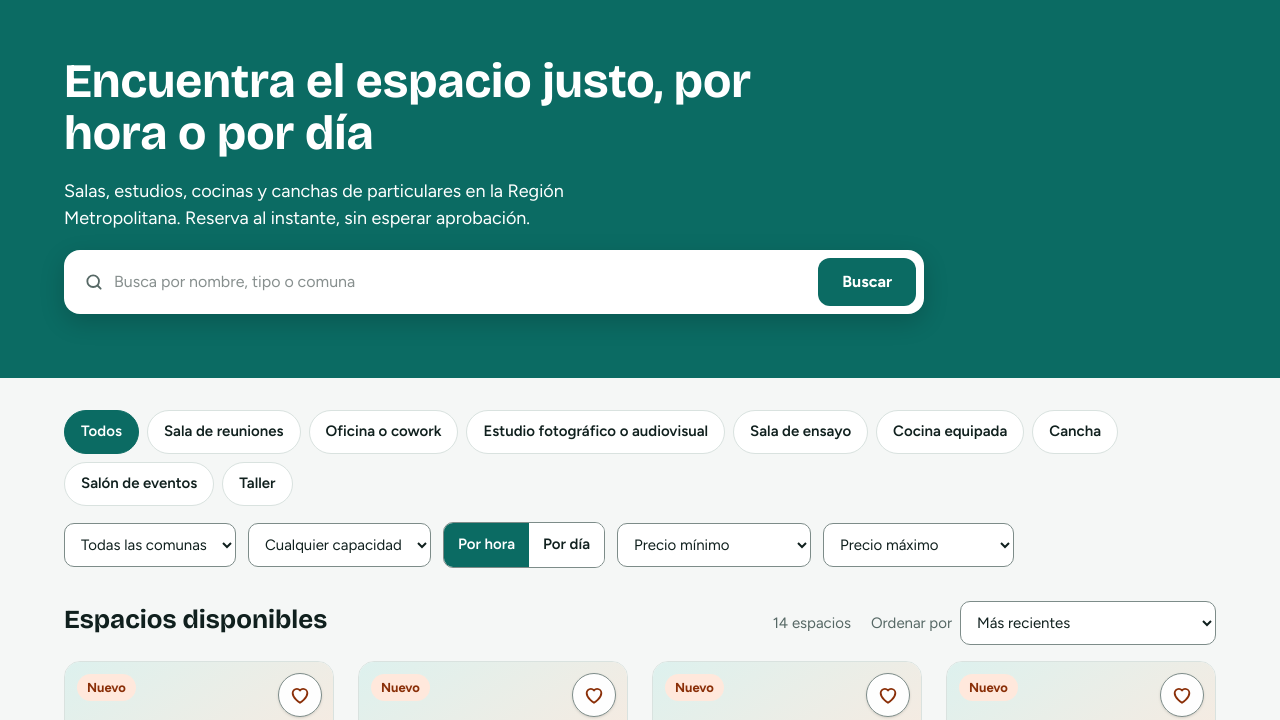
CatalogPage: filtros y búsqueda (BU-03) › comuna, capacidad y precio › filtra por comuna
Expected: the button "Taller" is shown, [222,462,292,506]
Expected: the text "14 espacios" is shown, [773,612,851,634]
Step 1. Select "Ñuñoa" in the 1st dropdown named "Comuna" → coordinates (150, 545), box [64,523,236,567]
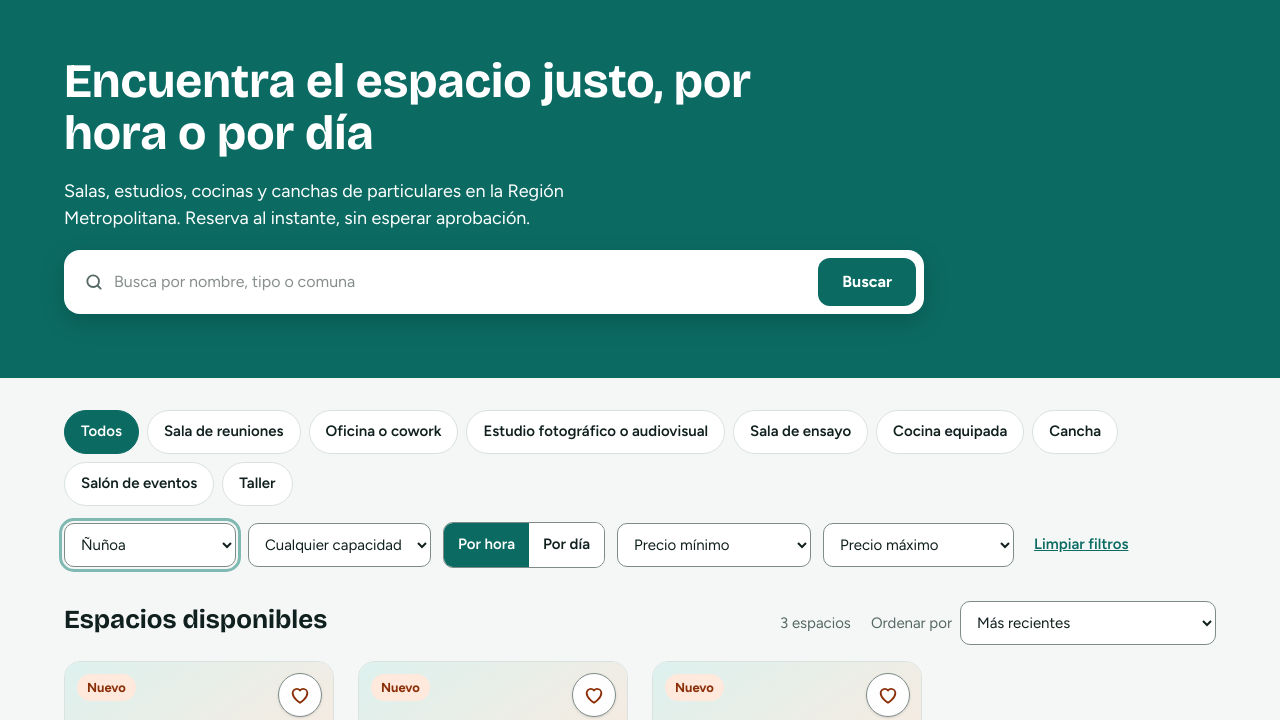
Now the text "3 espacios" is shown, box [780,612,851,634]
